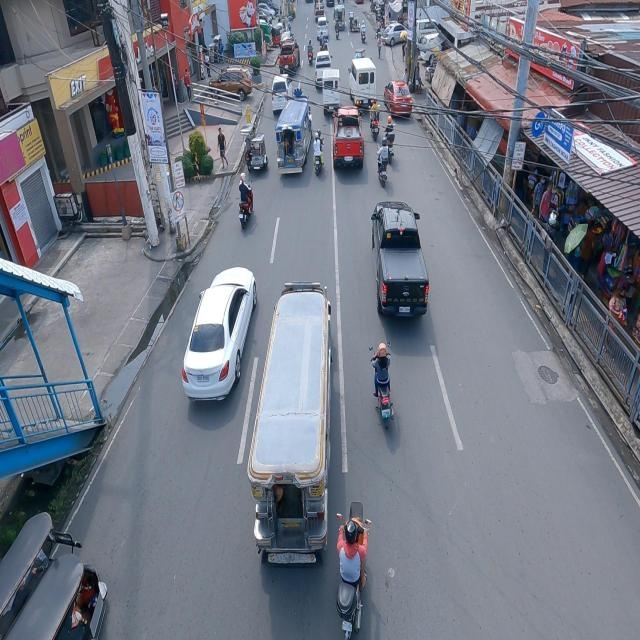Truck: (370, 202, 429, 324), (333, 108, 365, 172)
Van: (348, 58, 376, 112)
